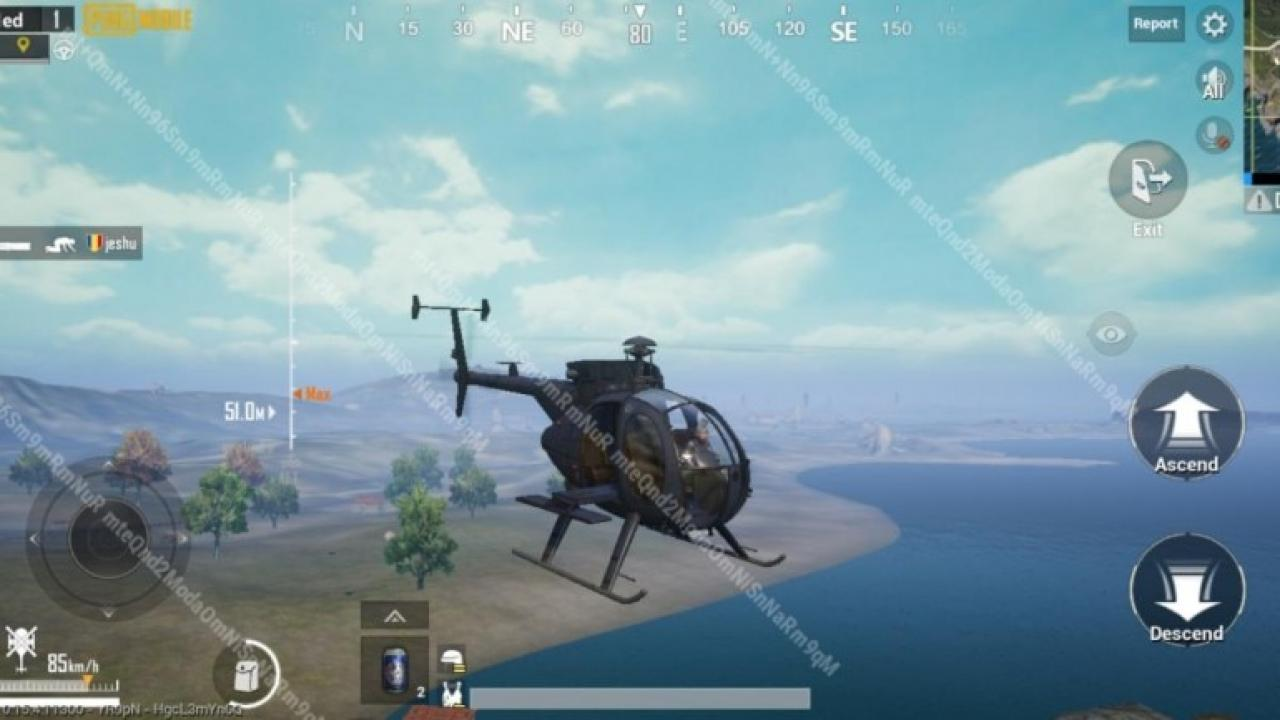Helicopter: (390, 286, 792, 609)
